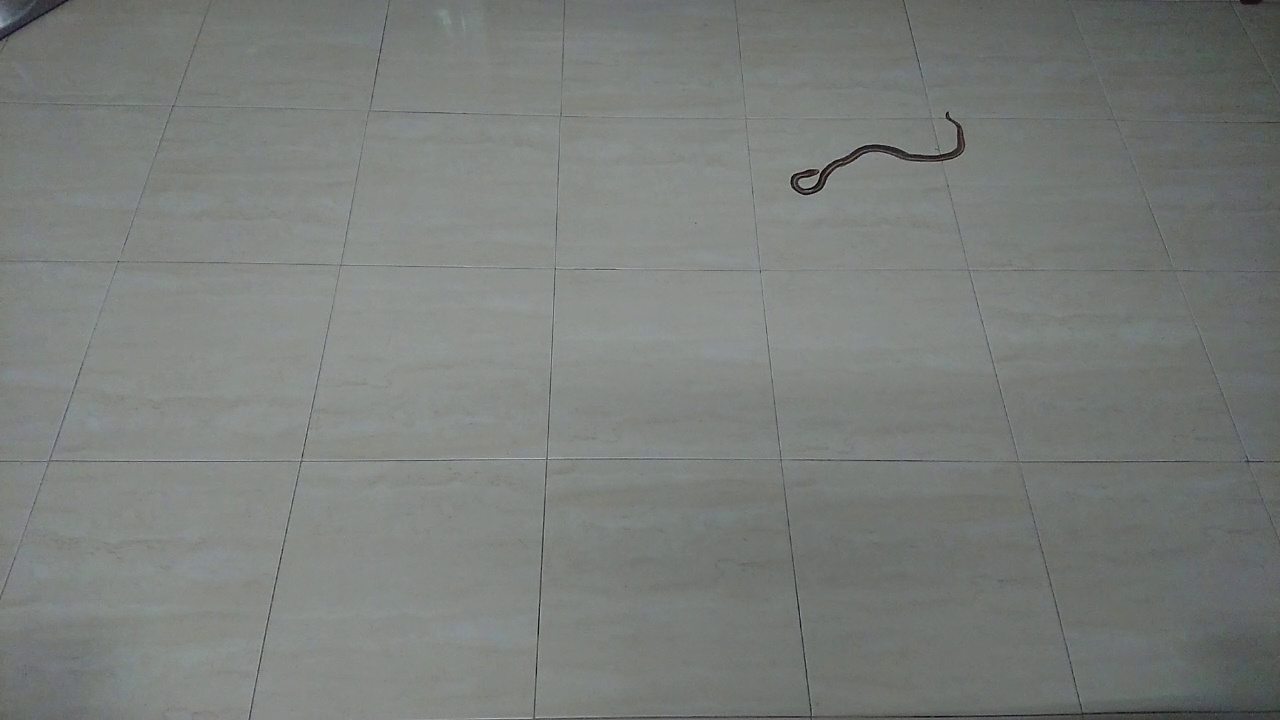snake: (776, 102, 974, 206)
